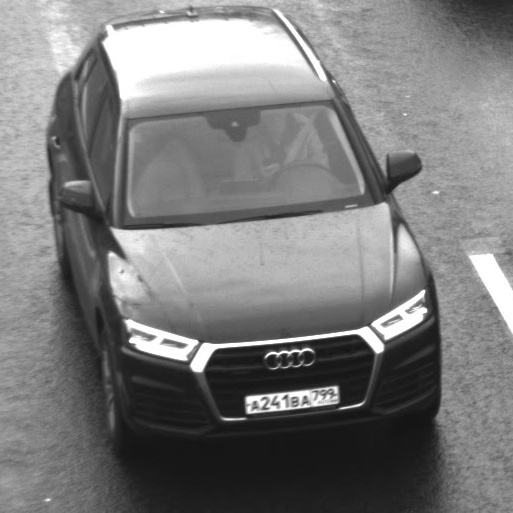plate: (234, 373, 350, 421)
